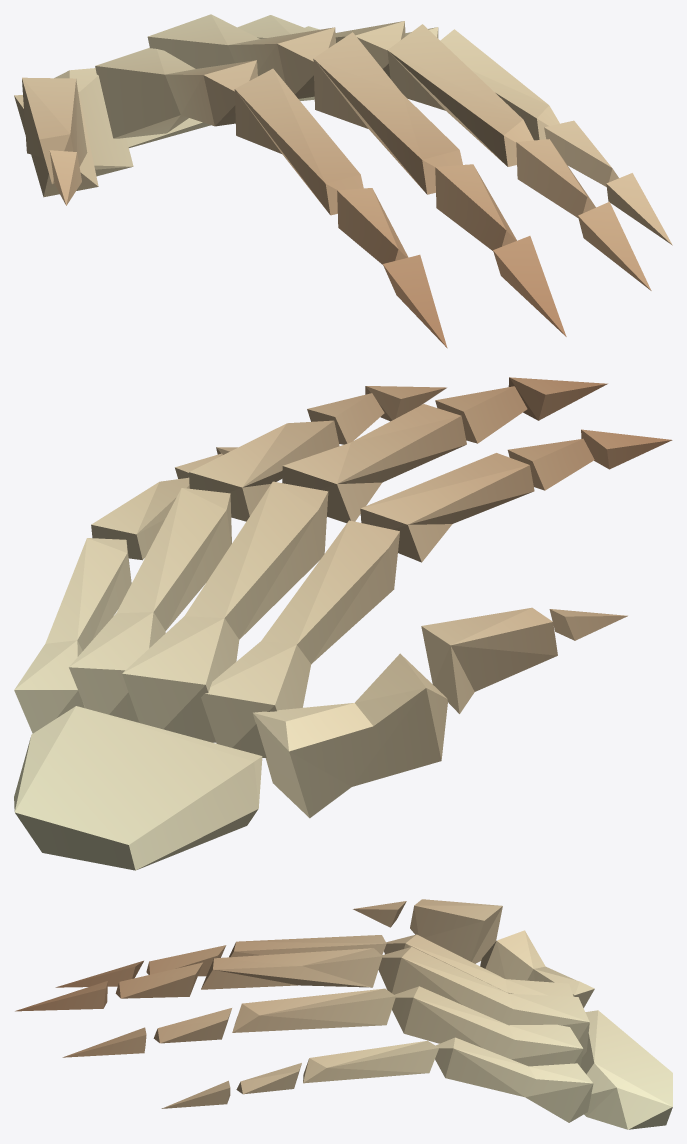
Rendered from lefthandbones.fbx.
3 views of the same model, one above another, from view 1: azimuth 30°, elevation 25°; view 2: azimuth 150°, elevation 25°; view 3: azimuth 270°, elevation 25° (orthographic). The views are drawn at different scales.
Parts seen in each view (by area): view 1: LeftHandBones; view 2: LeftHandBones; view 3: LeftHandBones.
Boxes of the visible parts, box(x1,y1,x2,y2) form: LeftHandBones: box(14, 14, 672, 348); LeftHandBones: box(14, 377, 672, 870); LeftHandBones: box(15, 899, 672, 1129).
Bounding box in the file's own units: 13.58 × 6.15 × 22.98.
